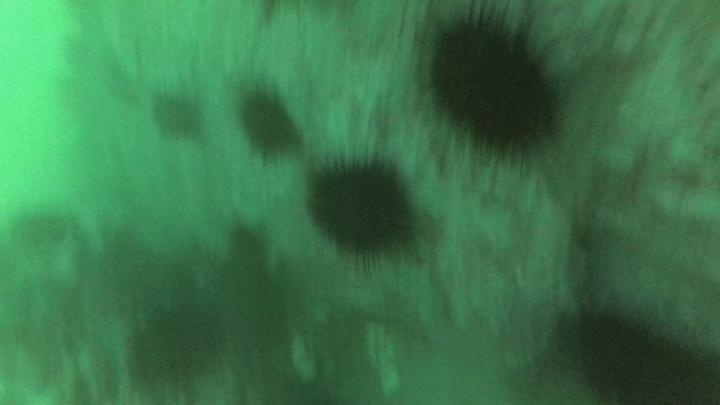echinus: (424, 11, 564, 158), (305, 150, 420, 265), (558, 299, 679, 402), (126, 300, 222, 391), (233, 81, 304, 160), (148, 87, 207, 143)
